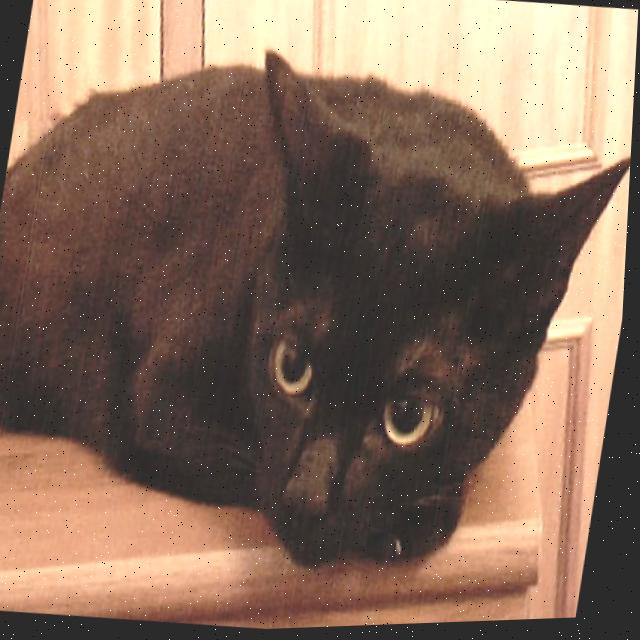Bombay: (0, 5, 639, 612)
